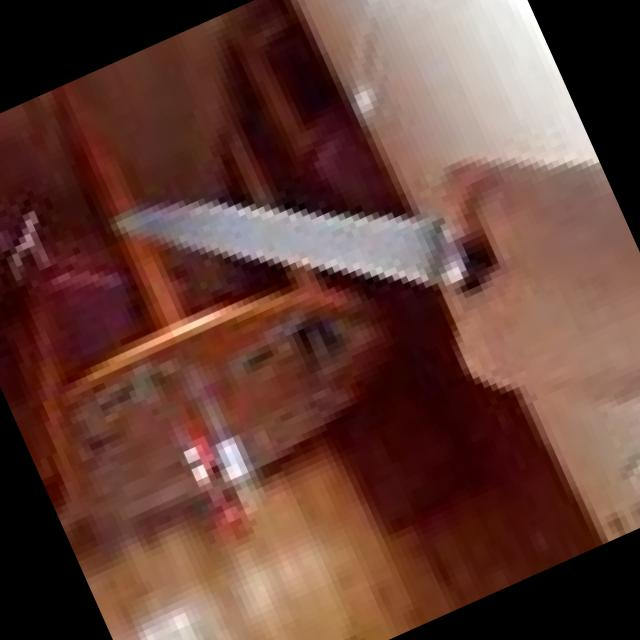knife: (84, 62, 503, 446)
